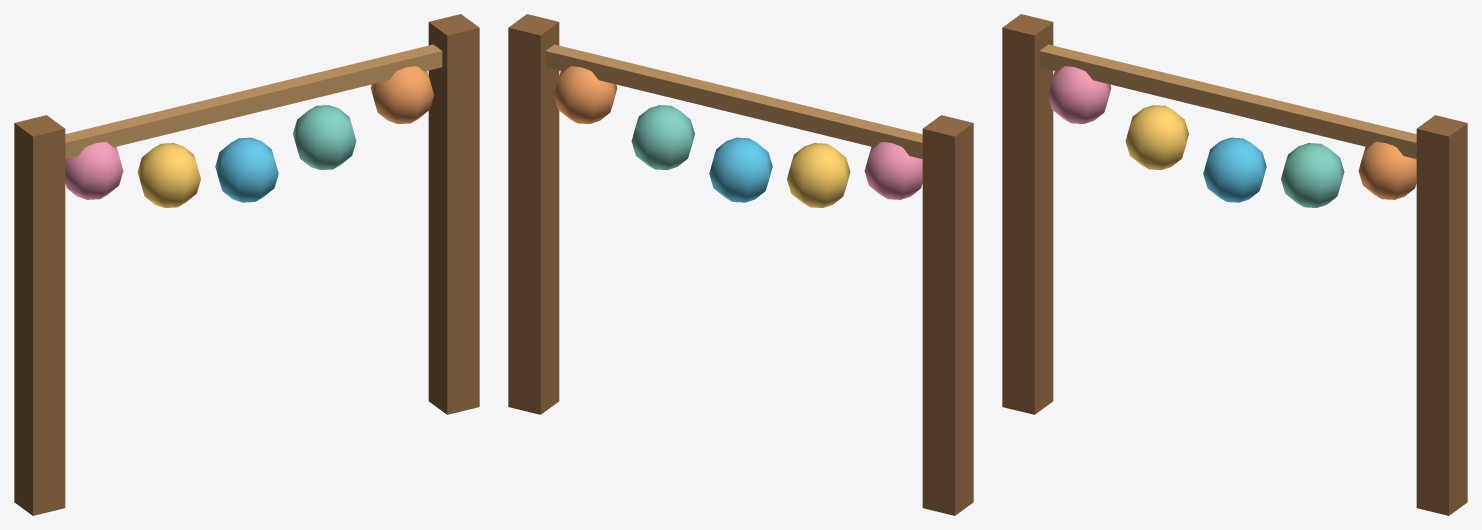
The model's file is party_lights.glb.
3 views of the same model, side by side, from view 1: azimuth 30°, elevation 25°; view 2: azimuth 150°, elevation 25°; view 3: azimuth 330°, elevation 25° (orthographic).
Parts seen in each view (by area): view 1: party_lights; view 2: party_lights; view 3: party_lights.
Boxes of the visible parts, left/top/right/bottom form: party_lights: left=14, top=14, right=479, bottom=515; party_lights: left=508, top=14, right=973, bottom=515; party_lights: left=1002, top=14, right=1467, bottom=515.
Size of the model in its own units: 34.5 by 28 by 4.4.
